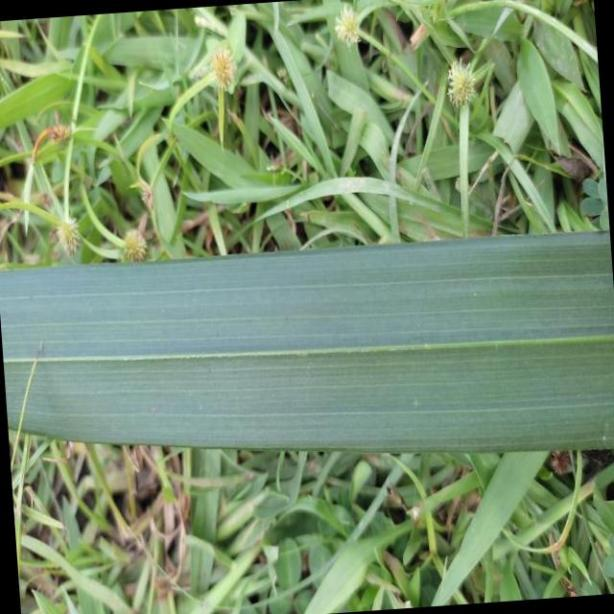Healthy: (5, 232, 614, 452)
